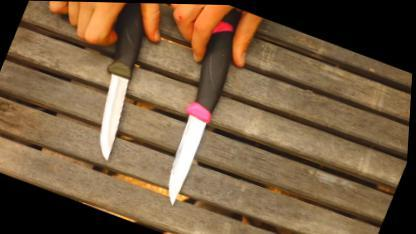knife: (34, 1, 170, 165), (132, 26, 248, 212)
